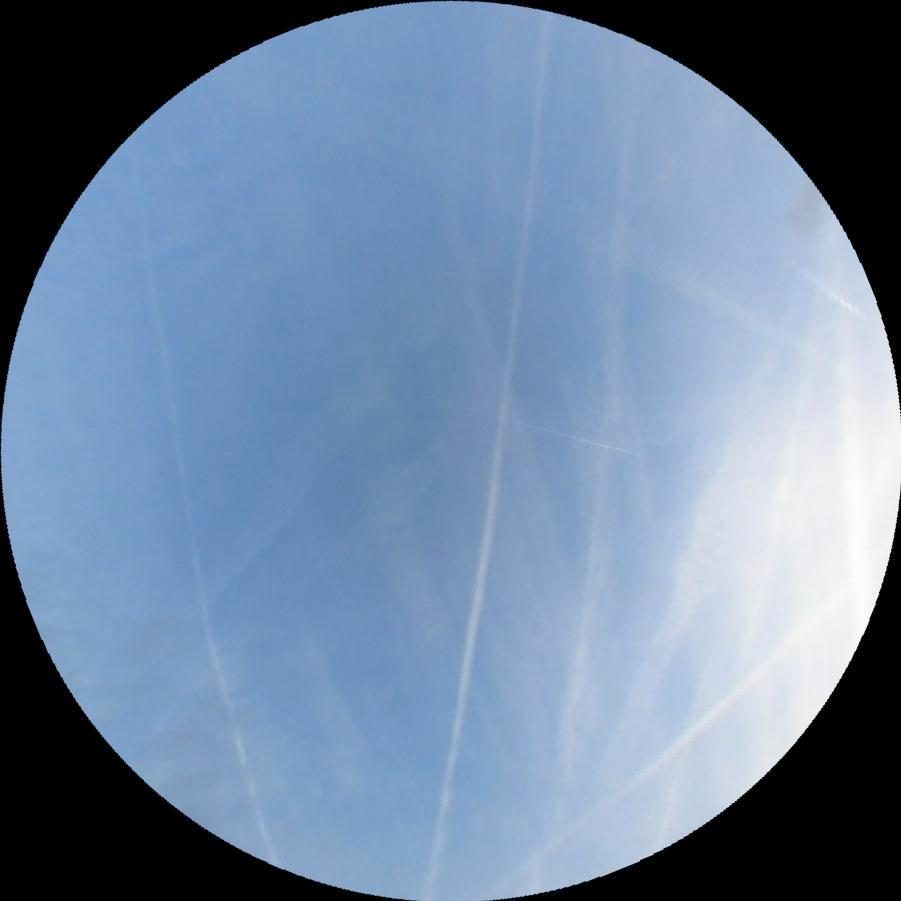contrail old: (419, 9, 565, 901), (105, 134, 279, 873), (481, 607, 839, 901)
contrail young: (425, 393, 637, 455), (787, 259, 870, 322)
